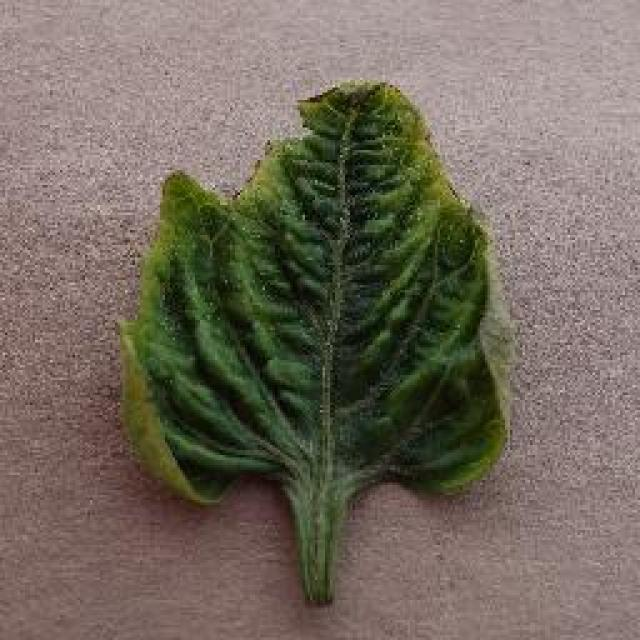Tomato yellow virus leaf: (119, 79, 514, 508)
